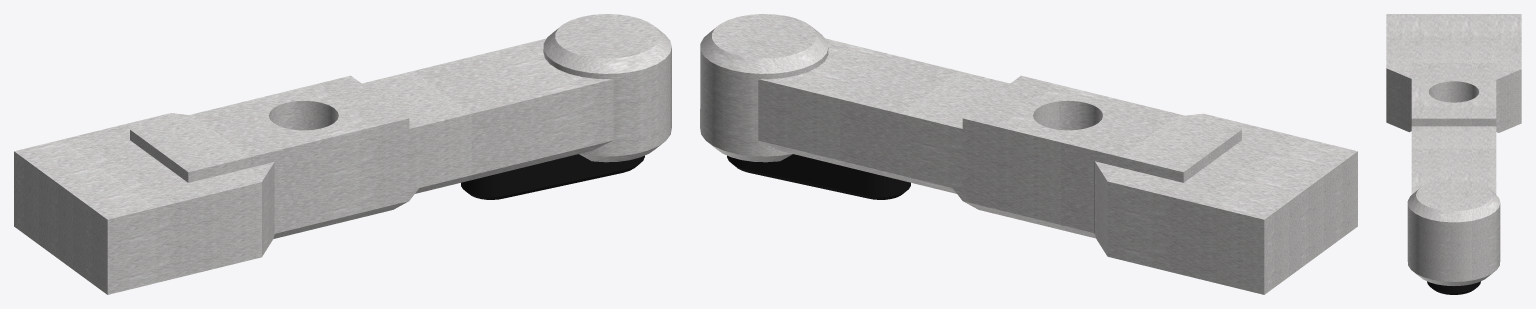
The model's file is upper_arm.dae.
3 views of the same model, side by side, from view 1: azimuth 30°, elevation 25°; view 2: azimuth 150°, elevation 25°; view 3: azimuth 270°, elevation 25° (orthographic). The views are drawn at different scales.
Visible parts, largest first — view 1: _3DGeom_44, _3DGeom_45; view 2: _3DGeom_44, _3DGeom_45; view 3: _3DGeom_44, _3DGeom_45.
Part boxes in pixels (bbox=[...]): _3DGeom_44: bbox=[14, 14, 671, 294]; _3DGeom_45: bbox=[461, 154, 644, 199]; _3DGeom_44: bbox=[700, 14, 1357, 294]; _3DGeom_45: bbox=[727, 154, 910, 199]; _3DGeom_44: bbox=[1386, 14, 1521, 285]; _3DGeom_45: bbox=[1427, 281, 1480, 294].
Bounding box in the file's own units: 0.595 × 0.16 × 0.118.
Materials: 2 (1 with a texture image).
